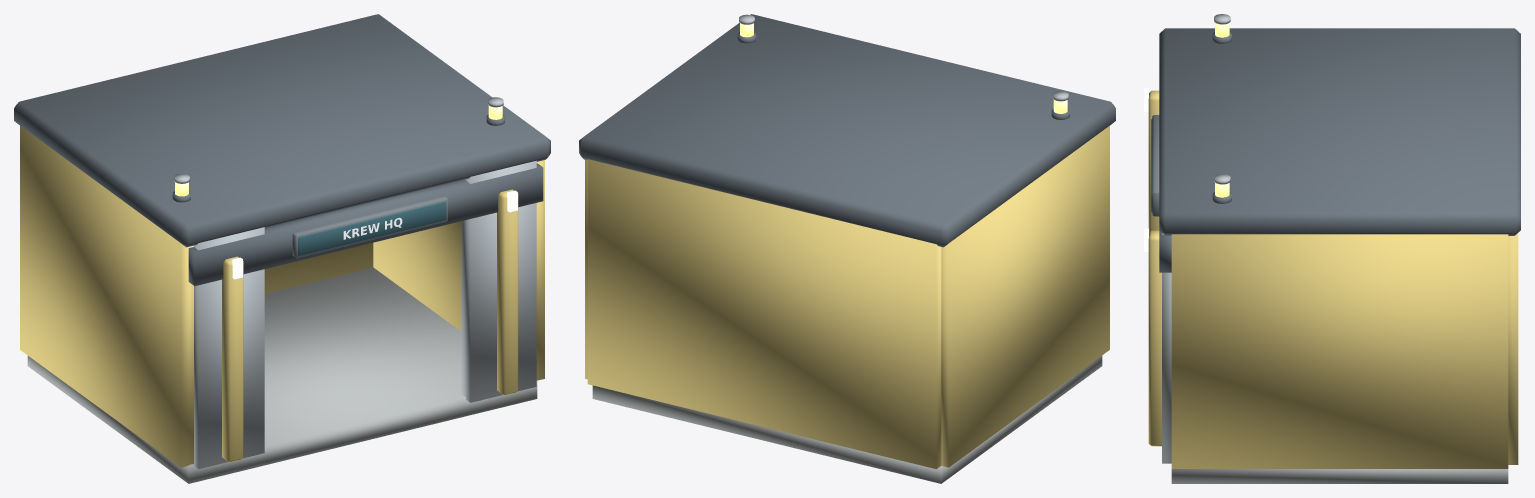
The model's file is krew_hq_standard.glb.
3 renders of one model, left to right at view 1: azimuth 30°, elevation 25°; view 2: azimuth 150°, elevation 25°; view 3: azimuth 270°, elevation 25°, orthographic. The views are drawn at different scales.
Visible parts, largest first — view 1: Roof_dark_legacy_2, Wall_yellow_legacy_1, Foundation_concrete_legacy_0, FrontFrame_steel_legacy_3, Header_dark_legacy_4, PortalTrim_yellow_legacy_13, SignPlate_glass, ScreenMount_frame; view 2: Wall_yellow_legacy_1, Roof_dark_legacy_2, Foundation_concrete_legacy_0; view 3: Wall_yellow_legacy_1, Roof_dark_legacy_2, Foundation_concrete_legacy_0, PortalTrim_yellow_legacy_13, FrontFrame_steel_legacy_3, ScreenMount_frame, Header_dark_legacy_4, StatusLight_warn_legacy_10.
Boxes of the visible parts, <box> form: Roof_dark_legacy_2: <box>14,14,550,247</box>; Wall_yellow_legacy_1: <box>20,125,544,467</box>; Foundation_concrete_legacy_0: <box>27,267,537,483</box>; FrontFrame_steel_legacy_3: <box>194,160,536,469</box>; Header_dark_legacy_4: <box>188,163,543,285</box>; PortalTrim_yellow_legacy_13: <box>222,189,518,462</box>; SignPlate_glass: <box>298,201,446,255</box>; ScreenMount_frame: <box>292,196,447,258</box>; Wall_yellow_legacy_1: <box>585,125,1109,469</box>; Roof_dark_legacy_2: <box>579,14,1115,247</box>; Foundation_concrete_legacy_0: <box>592,356,1102,483</box>; Wall_yellow_legacy_1: <box>1171,233,1518,468</box>; Roof_dark_legacy_2: <box>1159,28,1520,235</box>; Foundation_concrete_legacy_0: <box>1171,469,1508,483</box>; PortalTrim_yellow_legacy_13: <box>1148,90,1161,446</box>; FrontFrame_steel_legacy_3: <box>1162,233,1171,463</box>; ScreenMount_frame: <box>1152,115,1159,216</box>; Header_dark_legacy_4: <box>1159,230,1171,272</box>; StatusLight_warn_legacy_10: <box>1215,23,1229,197</box>.
Size of the model in its own units: 5.3 by 3.9 by 4.48.
